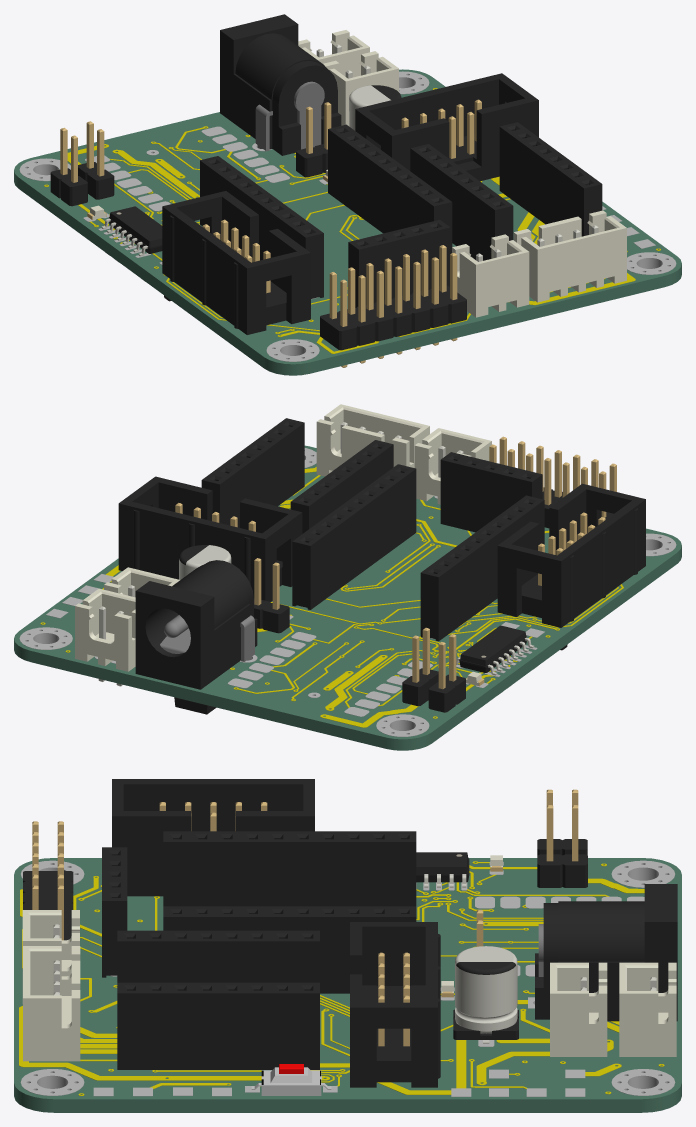
File: mack-10-rev-b.glb
3 views of the same model, one above another, from view 1: azimuth 30°, elevation 25°; view 2: azimuth 150°, elevation 25°; view 3: azimuth 270°, elevation 25° (orthographic). The views are drawn at different scales.
Parts seen in each view (by area): view 1: =>[0:1:1:39], =>[0:1:1:19] (×2), =>[0:1:1:9] (×2), =>[0:1:1:23] (×2), =>[0:1:1:13], =>[0:1:1:27], =>[0:1:1:7] (×3), =>[0:1:1:15], =>[0:1:1:37], =>[0:1:1:5] (×3), =>[0:1:1:36], =>[0:1:1:11] (+2 smaller); view 2: =>[0:1:1:39], =>[0:1:1:19] (×2), =>[0:1:1:9] (×2), =>[0:1:1:13], =>[0:1:1:23] (×2), =>[0:1:1:7] (×3), =>[0:1:1:36], =>[0:1:1:37], =>[0:1:1:11], =>[0:1:1:5] (×3), =>[0:1:1:15], =>[0:1:1:27] (+2 smaller); view 3: =>[0:1:1:39], =>[0:1:1:23] (×2), =>[0:1:1:9] (×2), =>[0:1:1:19] (×2), =>[0:1:1:7] (×3), =>[0:1:1:13], =>[0:1:1:36], =>[0:1:1:37], =>[0:1:1:15], =>[0:1:1:21], =>[0:1:1:5] (×2), =>[0:1:1:27] (+3 smaller).
Boxes of the visible parts, x1,y1,x2,y2 form: =>[0:1:1:39]: [14, 69, 681, 375]; =>[0:1:1:19] (×2): [162, 73, 538, 334]; =>[0:1:1:9] (×2): [200, 124, 452, 298]; =>[0:1:1:23] (×2): [410, 122, 602, 260]; =>[0:1:1:13]: [220, 14, 341, 155]; =>[0:1:1:27]: [320, 245, 466, 367]; =>[0:1:1:7] (×3): [298, 30, 529, 317]; =>[0:1:1:15]: [513, 210, 626, 302]; =>[0:1:1:37]: [19, 71, 676, 361]; =>[0:1:1:5] (×3): [50, 102, 331, 206]; =>[0:1:1:36]: [44, 88, 660, 353]; =>[0:1:1:11]: [348, 219, 450, 307]; =>[0:1:1:39]: [14, 445, 681, 750]; =>[0:1:1:19] (×2): [118, 476, 645, 627]; =>[0:1:1:9] (×2): [292, 464, 544, 641]; =>[0:1:1:13]: [135, 560, 257, 689]; =>[0:1:1:23] (×2): [201, 418, 393, 533]; =>[0:1:1:7] (×3): [75, 428, 491, 686]; =>[0:1:1:36]: [40, 467, 623, 727]; =>[0:1:1:37]: [19, 448, 676, 736]; =>[0:1:1:11]: [440, 452, 542, 532]; =>[0:1:1:5] (×3): [254, 558, 465, 712]; =>[0:1:1:15]: [316, 404, 429, 476]; =>[0:1:1:27]: [489, 436, 616, 528]; =>[0:1:1:39]: [14, 858, 681, 1112]; =>[0:1:1:23] (×2): [117, 930, 319, 1069]; =>[0:1:1:9] (×2): [163, 831, 416, 993]; =>[0:1:1:19] (×2): [112, 779, 440, 1087]; =>[0:1:1:7] (×3): [22, 910, 676, 1056]; =>[0:1:1:13]: [535, 884, 677, 1021]; =>[0:1:1:36]: [19, 861, 664, 1095]; =>[0:1:1:37]: [20, 860, 675, 1096]; =>[0:1:1:15]: [23, 946, 80, 1061]; =>[0:1:1:21]: [453, 946, 518, 1043]; =>[0:1:1:5] (×2): [537, 789, 587, 887]; =>[0:1:1:27]: [23, 821, 73, 940].
Size of the model in its own units: 0.0573 by 0.0149 by 0.0671.
